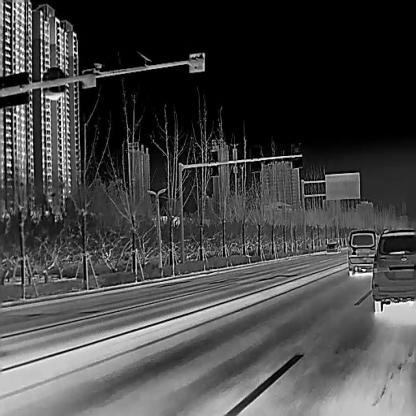car: (371, 228, 416, 311), (346, 229, 378, 277), (325, 239, 341, 253)
